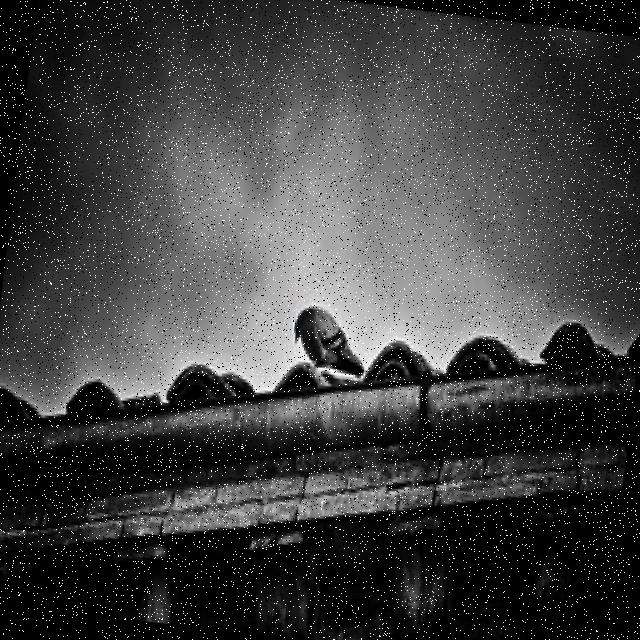bird: (288, 302, 372, 380)
